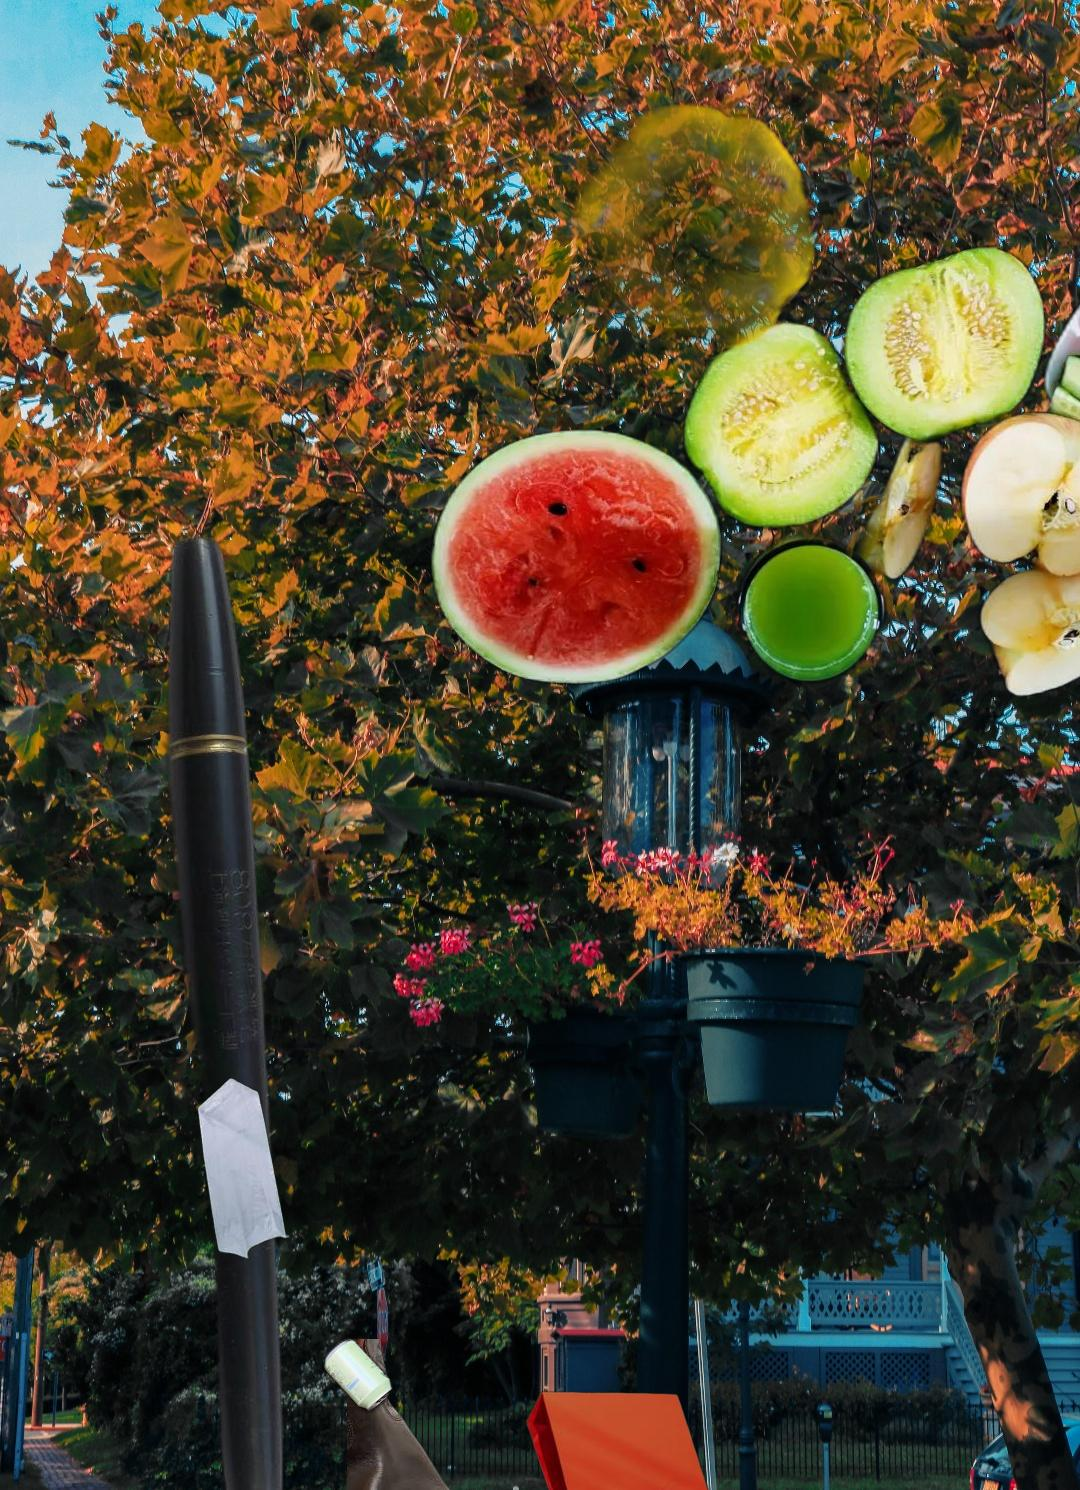biological: (420, 40, 1080, 703)
metal-cans: (262, 1334, 476, 1490)
paper-bag: (524, 1389, 713, 1490)
penholder: (160, 525, 290, 1490)
plastic-bag: (197, 1075, 405, 1267)
shoes: (347, 1338, 528, 1490)
